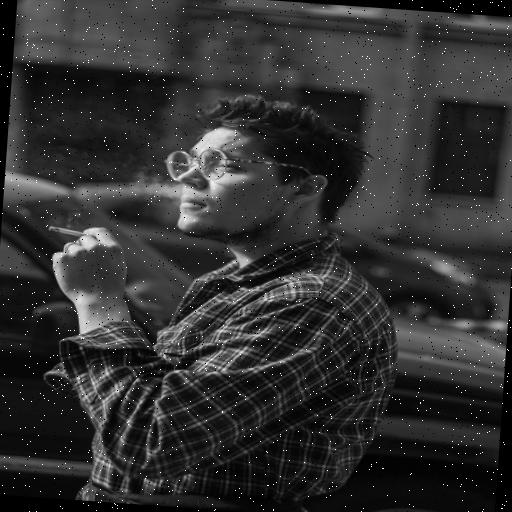pegang rokok: (26, 184, 156, 310)
